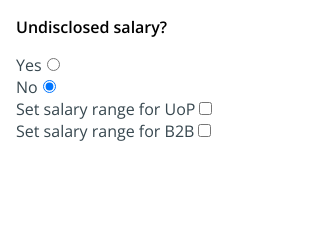
Scenario: FormOffersalary component › renders b2bSalaryInput after setB2b is clicked
Click the 2nd checkbox named "setB2b" at (205, 130), box 198,124 -> 211,137
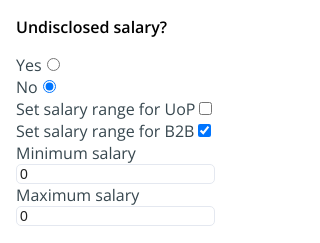
Expected: the text "Undisclosed salary?" is shown, 16,16 -> 167,38
Expected: the 1st number field named "b2bSalaryMin" is shown, 16,164 -> 216,184
